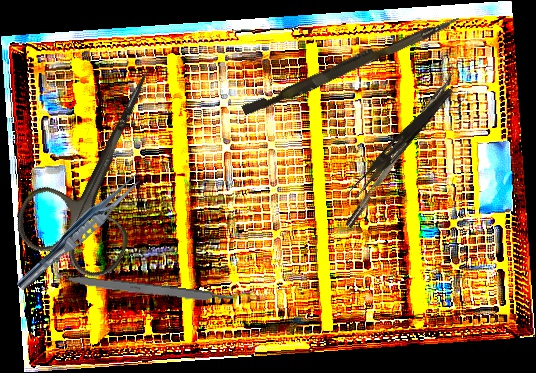Chopper: (337, 60, 462, 229)
Dressing Forceps: (347, 82, 455, 203)
Iris Scissors: (6, 45, 202, 286)
Pusher: (241, 7, 461, 122)
Scalpel Handle: (64, 273, 234, 307)
Tissue Forceps: (13, 165, 148, 297)
